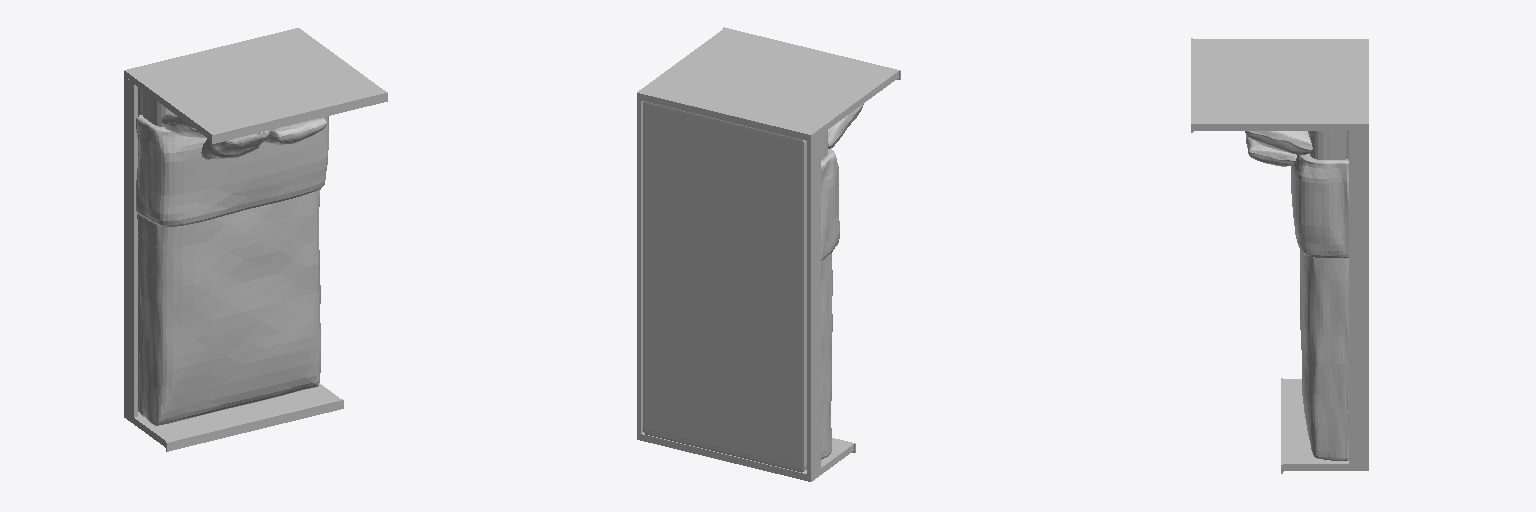
The model's file is cama.obj.
The picture shows the model from 3 angles: view 1: azimuth 30°, elevation 25°; view 2: azimuth 150°, elevation 25°; view 3: azimuth 270°, elevation 25°; orthographic projection.
Visible parts, largest first — view 1: Box5161, Box5158, Box5157, Box5156, Box5165, Box5164, Box5159, Box5160; view 2: Box5162, Box5158, Box5156, Box5161, Box5155, Box5157; view 3: Box5158, Box5161, Box5155, Box5157, Box5163, Box5159, Box5164.
Boxes of the visible parts, x1,y1,x2,y2 form: Box5161: [136, 115, 328, 425]; Box5158: [124, 28, 387, 143]; Box5157: [124, 383, 343, 451]; Box5156: [124, 77, 137, 417]; Box5165: [201, 130, 269, 159]; Box5164: [264, 117, 326, 144]; Box5159: [143, 91, 171, 126]; Box5160: [161, 112, 206, 137]; Box5162: [643, 101, 806, 472]; Box5158: [637, 27, 900, 140]; Box5156: [807, 134, 820, 474]; Box5161: [821, 149, 839, 459]; Box5155: [637, 99, 643, 433]; Box5157: [637, 432, 855, 481]; Box5158: [1191, 38, 1368, 132]; Box5161: [1291, 154, 1348, 460]; Box5155: [1349, 130, 1368, 463]; Box5157: [1281, 378, 1368, 473]; Box5163: [1245, 131, 1312, 154]; Box5159: [1308, 131, 1345, 159]; Box5164: [1246, 135, 1296, 166].
Size of the model in its own units: 106 by 199 by 91.66.